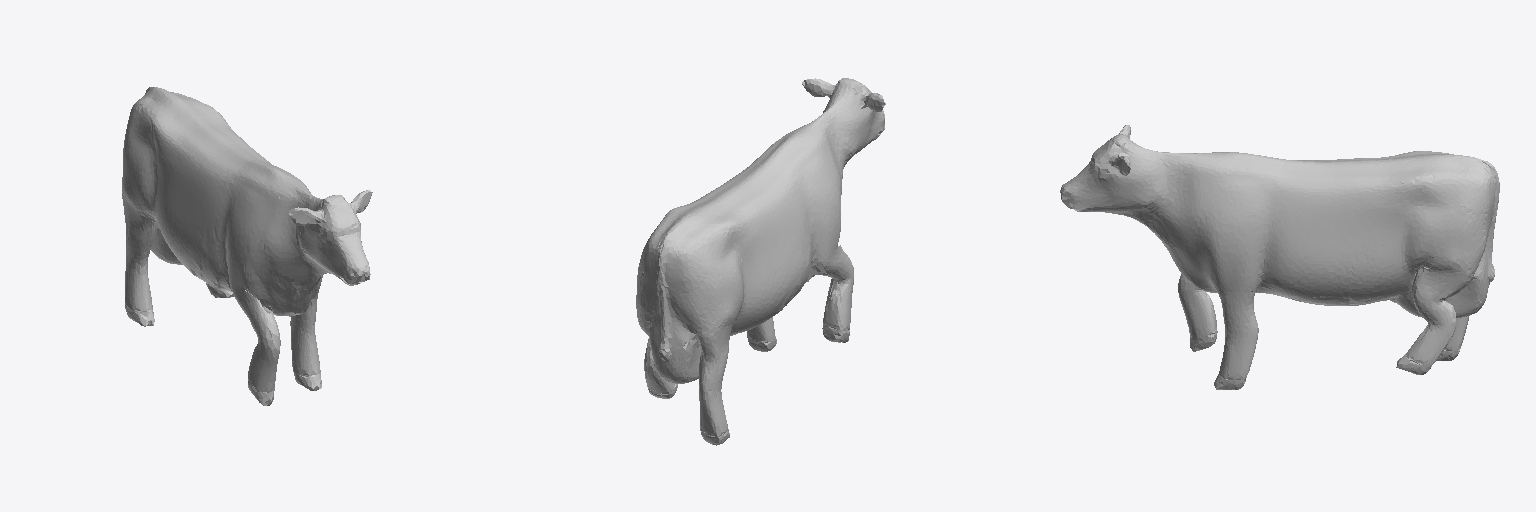
File: step2.obj
3 renders of one model, left to right at view 1: azimuth 30°, elevation 25°; view 2: azimuth 150°, elevation 25°; view 3: azimuth 270°, elevation 25°, orthographic.
Visible parts, largest first — view 1: Cow:cow; view 2: Cow:cow; view 3: Cow:cow.
Part boxes in pixels (x1,y1,x2,y2): Cow:cow: (122, 87, 372, 405); Cow:cow: (636, 78, 885, 445); Cow:cow: (1060, 125, 1499, 389).
Bounding box in the file's own units: 0.4753 × 1.17 × 1.96.